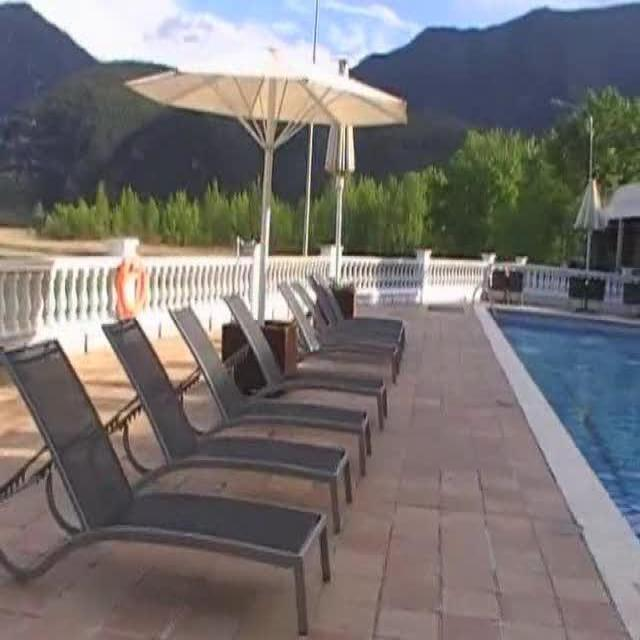other: (47, 254, 162, 315)
